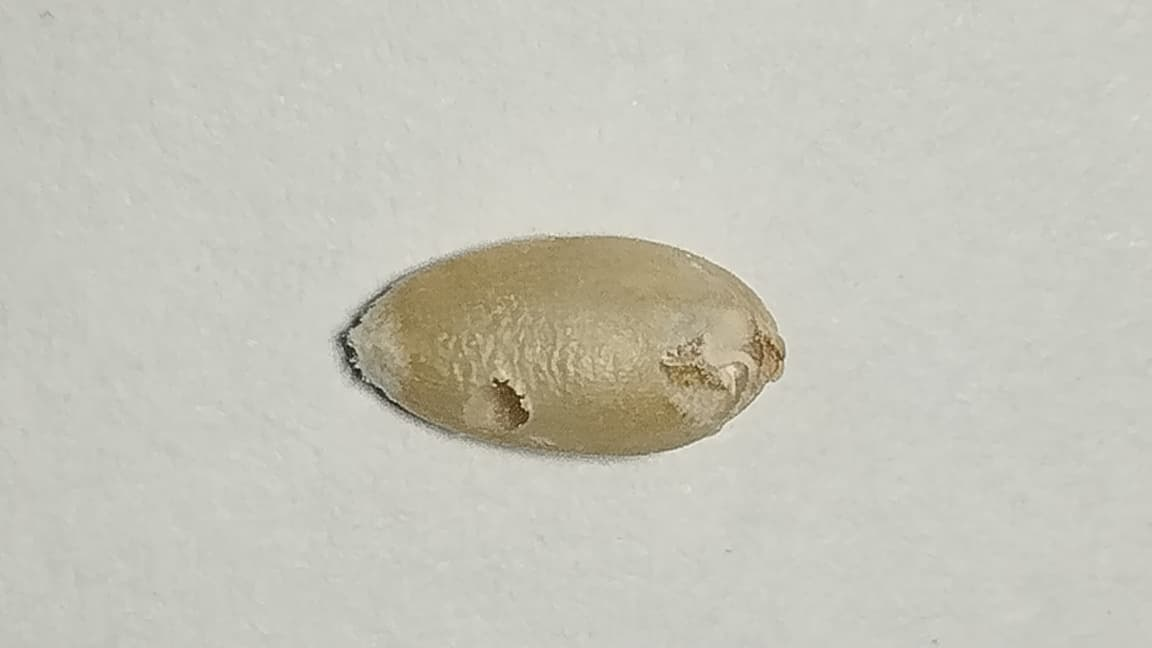damage: (346, 236, 784, 455)
insectdamage: (660, 312, 783, 425), (452, 364, 550, 446)
